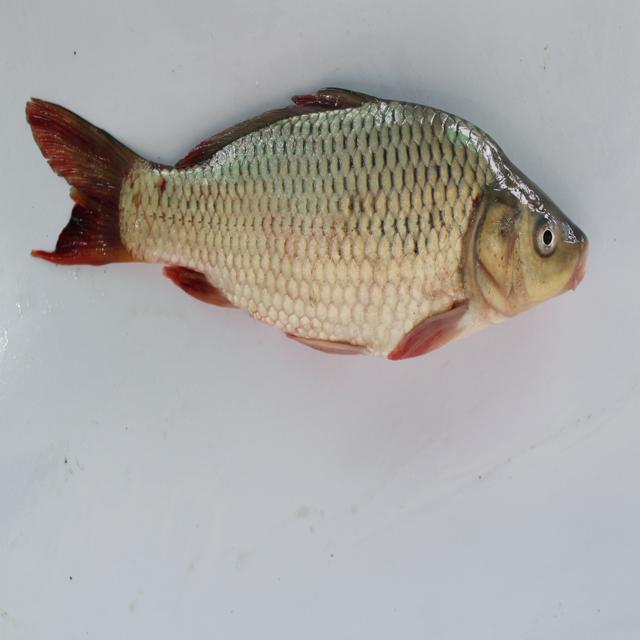CommonCarp: (24, 86, 604, 379)
